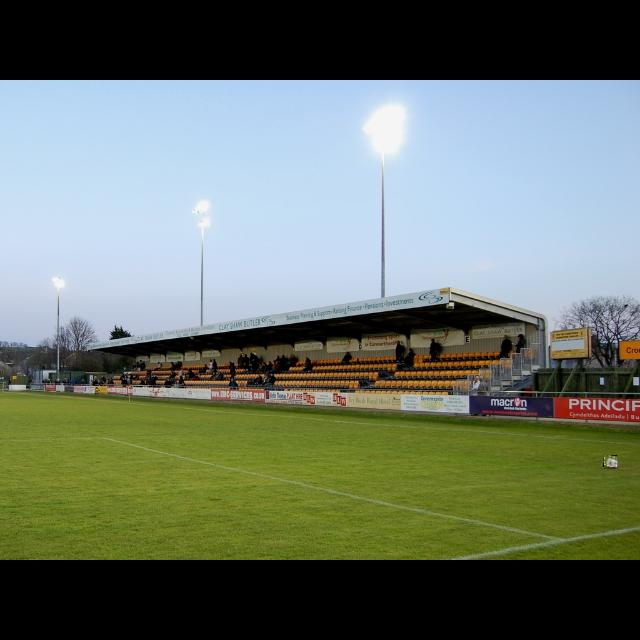Football: (603, 455, 617, 467)
